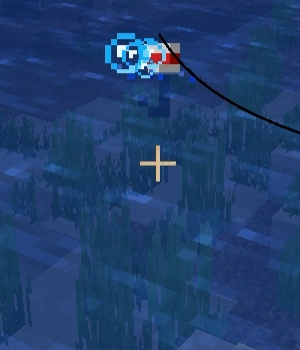up: (135, 31, 182, 119)
